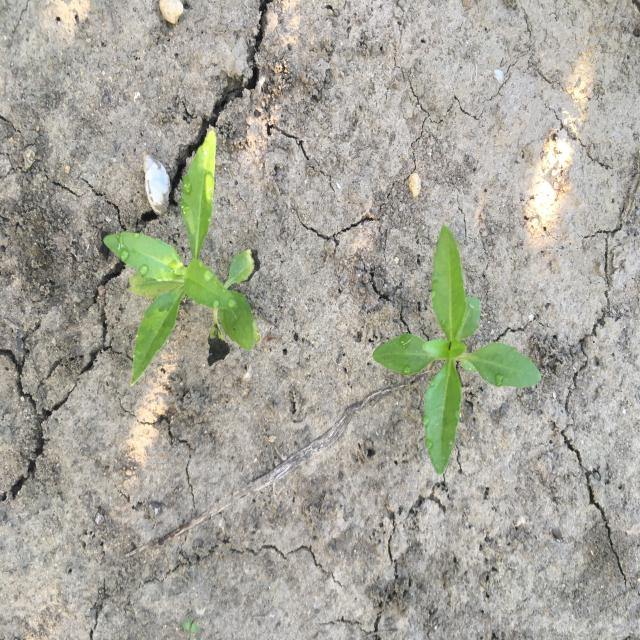Eclipta: (371, 223, 542, 477), (102, 129, 262, 388)
